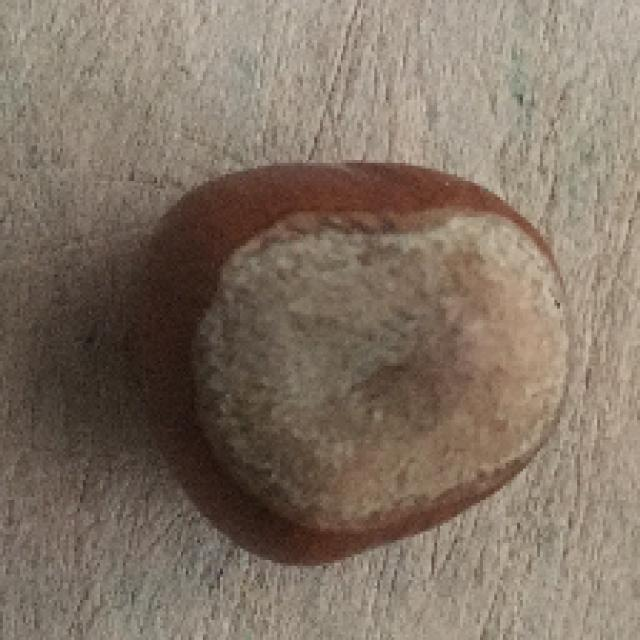qualityHazelnut: (121, 150, 574, 575)
